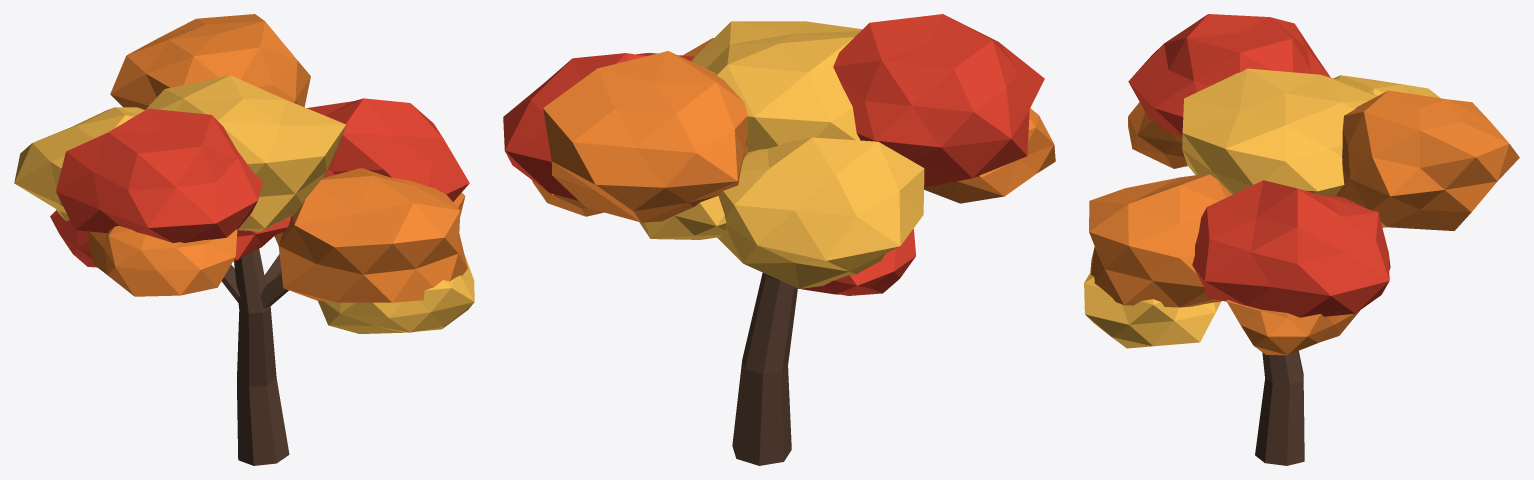
The model's file is maple_a.fbx.
The picture shows the model from 3 angles, left to right: view 1: azimuth 30°, elevation 25°; view 2: azimuth 150°, elevation 25°; view 3: azimuth 270°, elevation 25°; orthographic projection. The views are drawn at different scales.
Parts seen in each view (by area): view 1: A_Maple_Orange, A_Maple_Red, A_Maple_Gold, A_Maple_Bark; view 2: A_Maple_Gold, A_Maple_Red, A_Maple_Orange, A_Maple_Bark; view 3: A_Maple_Orange, A_Maple_Red, A_Maple_Gold, A_Maple_Bark.
Part boxes in pixels (left/top/right/bottom): A_Maple_Orange: left=88, top=14, right=467, bottom=302; A_Maple_Red: left=50, top=98, right=469, bottom=267; A_Maple_Gold: left=14, top=75, right=474, bottom=333; A_Maple_Bark: left=221, top=249, right=289, bottom=465; A_Maple_Gold: left=639, top=21, right=924, bottom=288; A_Maple_Red: left=503, top=14, right=1044, bottom=295; A_Maple_Orange: left=532, top=38, right=1055, bottom=222; A_Maple_Bark: left=732, top=273, right=797, bottom=465; A_Maple_Orange: left=1089, top=90, right=1519, bottom=355; A_Maple_Red: left=1128, top=14, right=1390, bottom=317; A_Maple_Gold: left=1084, top=68, right=1440, bottom=348; A_Maple_Bark: left=1255, top=351, right=1304, bottom=465.
Size of the model in its own units: 11.09 by 9.69 by 10.32.
